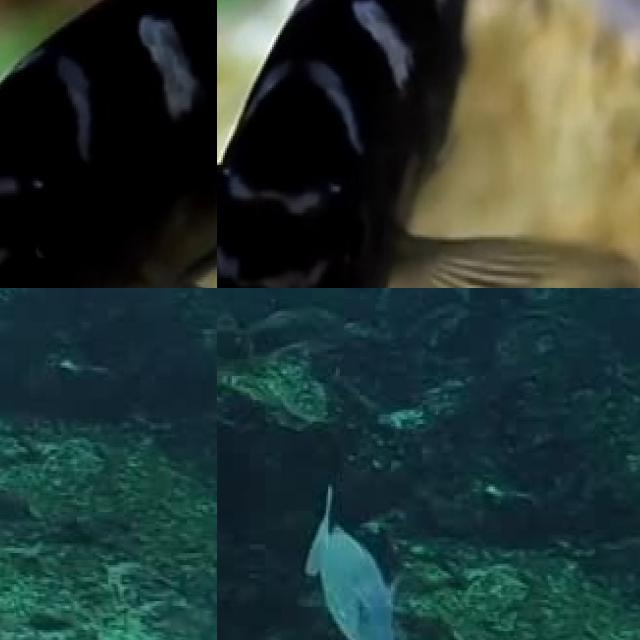fish: (217, 0, 593, 288), (0, 0, 217, 288)
